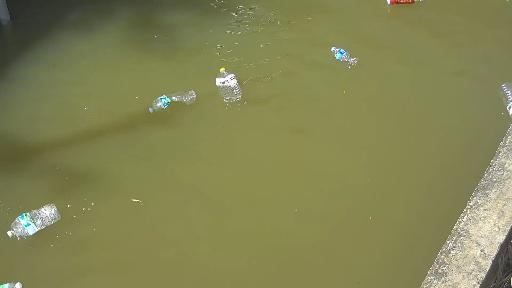plastic: (310, 30, 382, 87), (129, 67, 206, 118), (214, 38, 269, 108), (0, 185, 66, 240), (474, 64, 512, 114), (347, 0, 445, 19), (0, 256, 46, 288)
